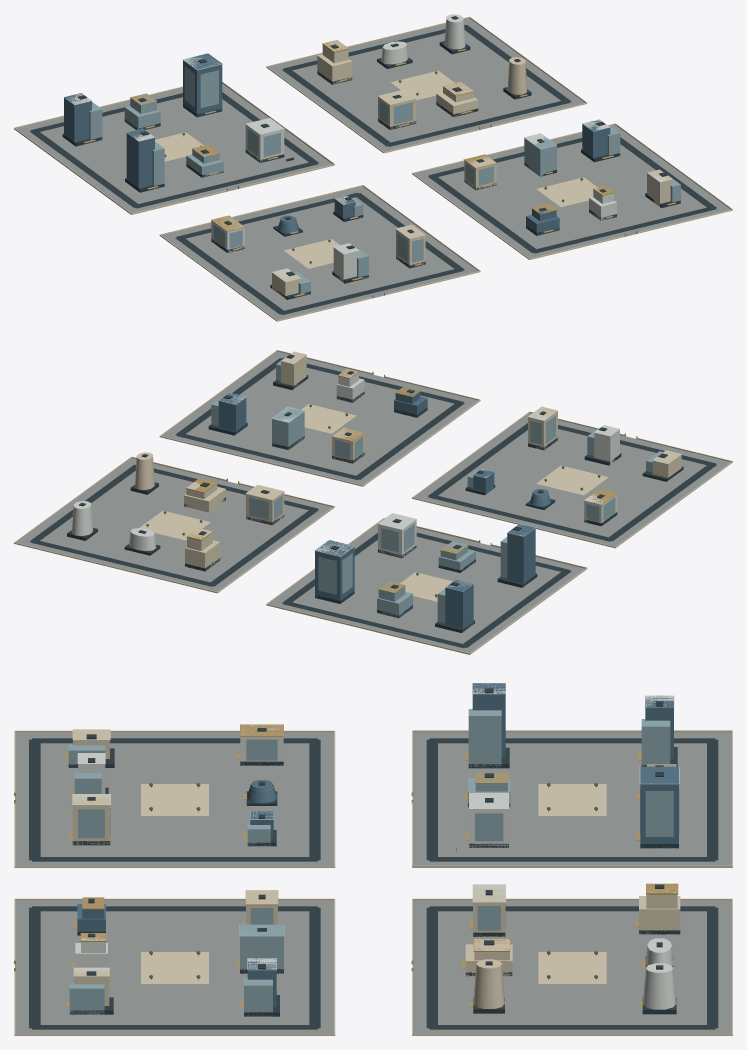
Rendered from GC-TILE-15-12.glb.
3 views of the same model, one above another, from view 1: azimuth 30°, elevation 25°; view 2: azimuth 150°, elevation 25°; view 3: azimuth 270°, elevation 25° (orthographic). The views are drawn at different scales.
Parts seen in each view (by area): view 1: GC-TILE-15-12-paving, GC-TILE-15-12-ivory, GC-TILE-15-12-dark, GC-TILE-15-12-glass, GC-TILE-15-12-blue, GC-TILE-15-12-white, GC-TILE-15-12-gold; view 2: GC-TILE-15-12-paving, GC-TILE-15-12-ivory, GC-TILE-15-12-dark, GC-TILE-15-12-glass, GC-TILE-15-12-blue, GC-TILE-15-12-white, GC-TILE-15-12-gold; view 3: GC-TILE-15-12-paving, GC-TILE-15-12-dark, GC-TILE-15-12-ivory, GC-TILE-15-12-glass, GC-TILE-15-12-white, GC-TILE-15-12-blue, GC-TILE-15-12-gold.
Part boxes in pixels (x1,y1,x2,y2): GC-TILE-15-12-paving: [16, 18, 730, 319]; GC-TILE-15-12-ivory: [14, 16, 732, 321]; GC-TILE-15-12-dark: [30, 16, 716, 314]; GC-TILE-15-12-glass: [89, 66, 680, 296]; GC-TILE-15-12-blue: [64, 53, 610, 235]; GC-TILE-15-12-white: [63, 14, 672, 282]; GC-TILE-15-12-gold: [83, 40, 676, 298]; GC-TILE-15-12-paving: [16, 351, 730, 653]; GC-TILE-15-12-ivory: [14, 350, 732, 654]; GC-TILE-15-12-dark: [30, 354, 716, 648]; GC-TILE-15-12-glass: [211, 355, 662, 623]; GC-TILE-15-12-blue: [218, 387, 550, 631]; GC-TILE-15-12-white: [72, 351, 681, 591]; GC-TILE-15-12-gold: [92, 368, 637, 593]; GC-TILE-15-12-paving: [15, 732, 731, 1033]; GC-TILE-15-12-dark: [29, 688, 718, 1029]; GC-TILE-15-12-ivory: [14, 729, 732, 1035]; GC-TILE-15-12-glass: [68, 709, 679, 1016]; GC-TILE-15-12-white: [72, 683, 679, 1009]; GC-TILE-15-12-blue: [77, 683, 678, 1006]; GC-TILE-15-12-gold: [14, 724, 678, 1008].
Bounding box in the file's own units: 759 × 81.48 × 760.
